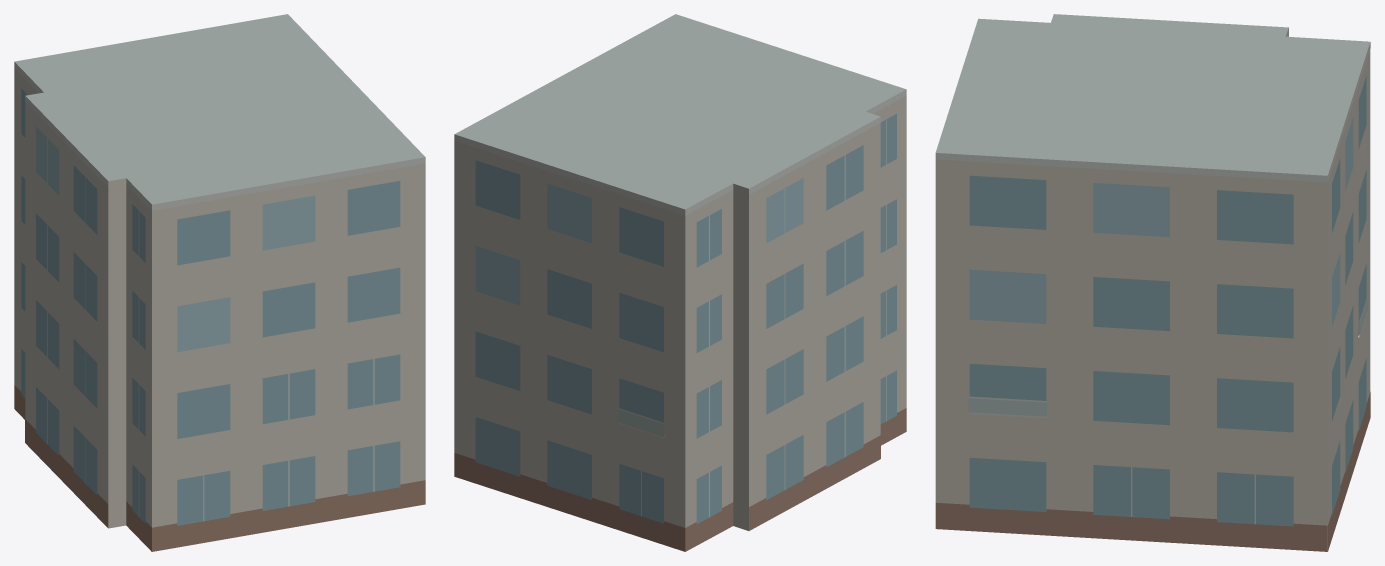
The model's file is survey-upis-32922878.glb.
The picture shows the model from 3 angles, left to right: view 1: azimuth 30°, elevation 25°; view 2: azimuth 150°, elevation 25°; view 3: azimuth 270°, elevation 25°; orthographic projection. The views are drawn at different scales.
Parts seen in each view (by area): view 1: survey-upis-32922878.tmp; view 2: survey-upis-32922878.tmp; view 3: survey-upis-32922878.tmp.
Part boxes in pixels (bbox=[...]): survey-upis-32922878.tmp: bbox=[14, 14, 425, 551]; survey-upis-32922878.tmp: bbox=[454, 14, 906, 551]; survey-upis-32922878.tmp: bbox=[935, 14, 1370, 551].
Bounding box in the file's own units: 12.58 × 13.63 × 14.29.
